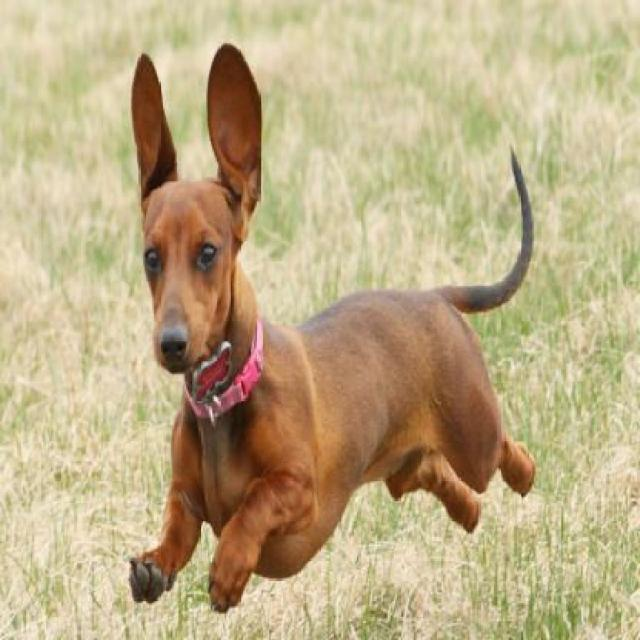Dog: (122, 29, 548, 616)
